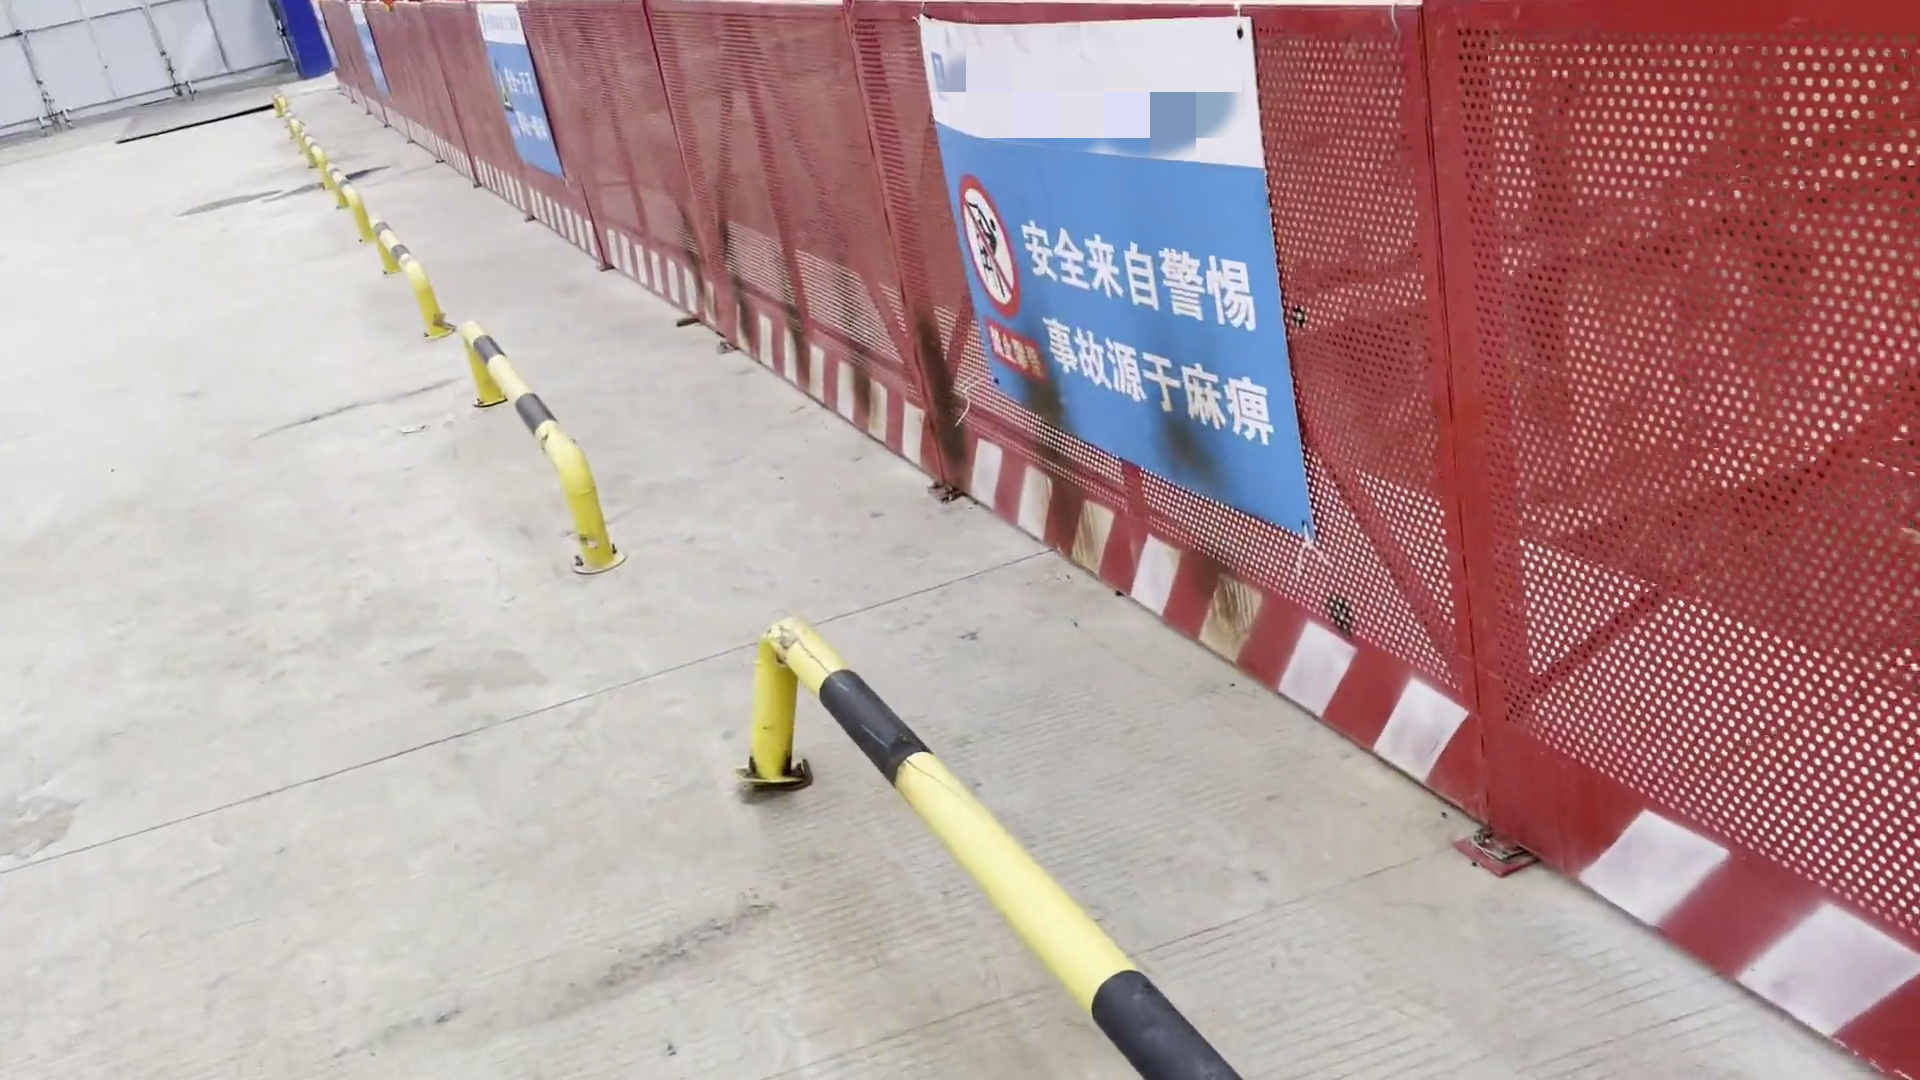fence: (1371, 1, 1920, 1080), (978, 1, 1518, 752), (630, 1, 992, 527), (316, 3, 642, 295)
slogan: (891, 8, 1406, 578), (452, 5, 579, 195)
